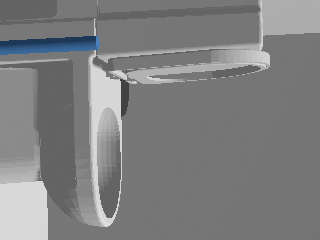lid_1: (108, 50, 271, 86)
